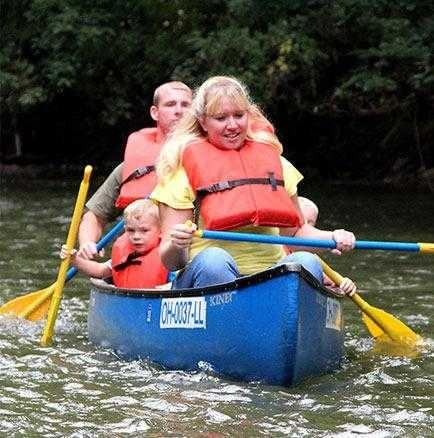kayak: (87, 262, 348, 388)
